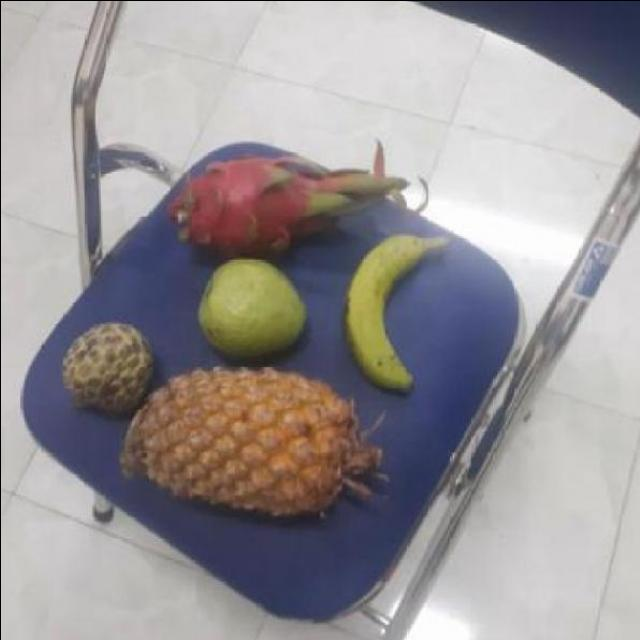banana: (342, 232, 444, 386)
dragon fruit: (166, 147, 370, 264)
guava: (192, 254, 312, 358)
pineapple: (125, 367, 358, 511)
sugar apple: (61, 324, 160, 414)
